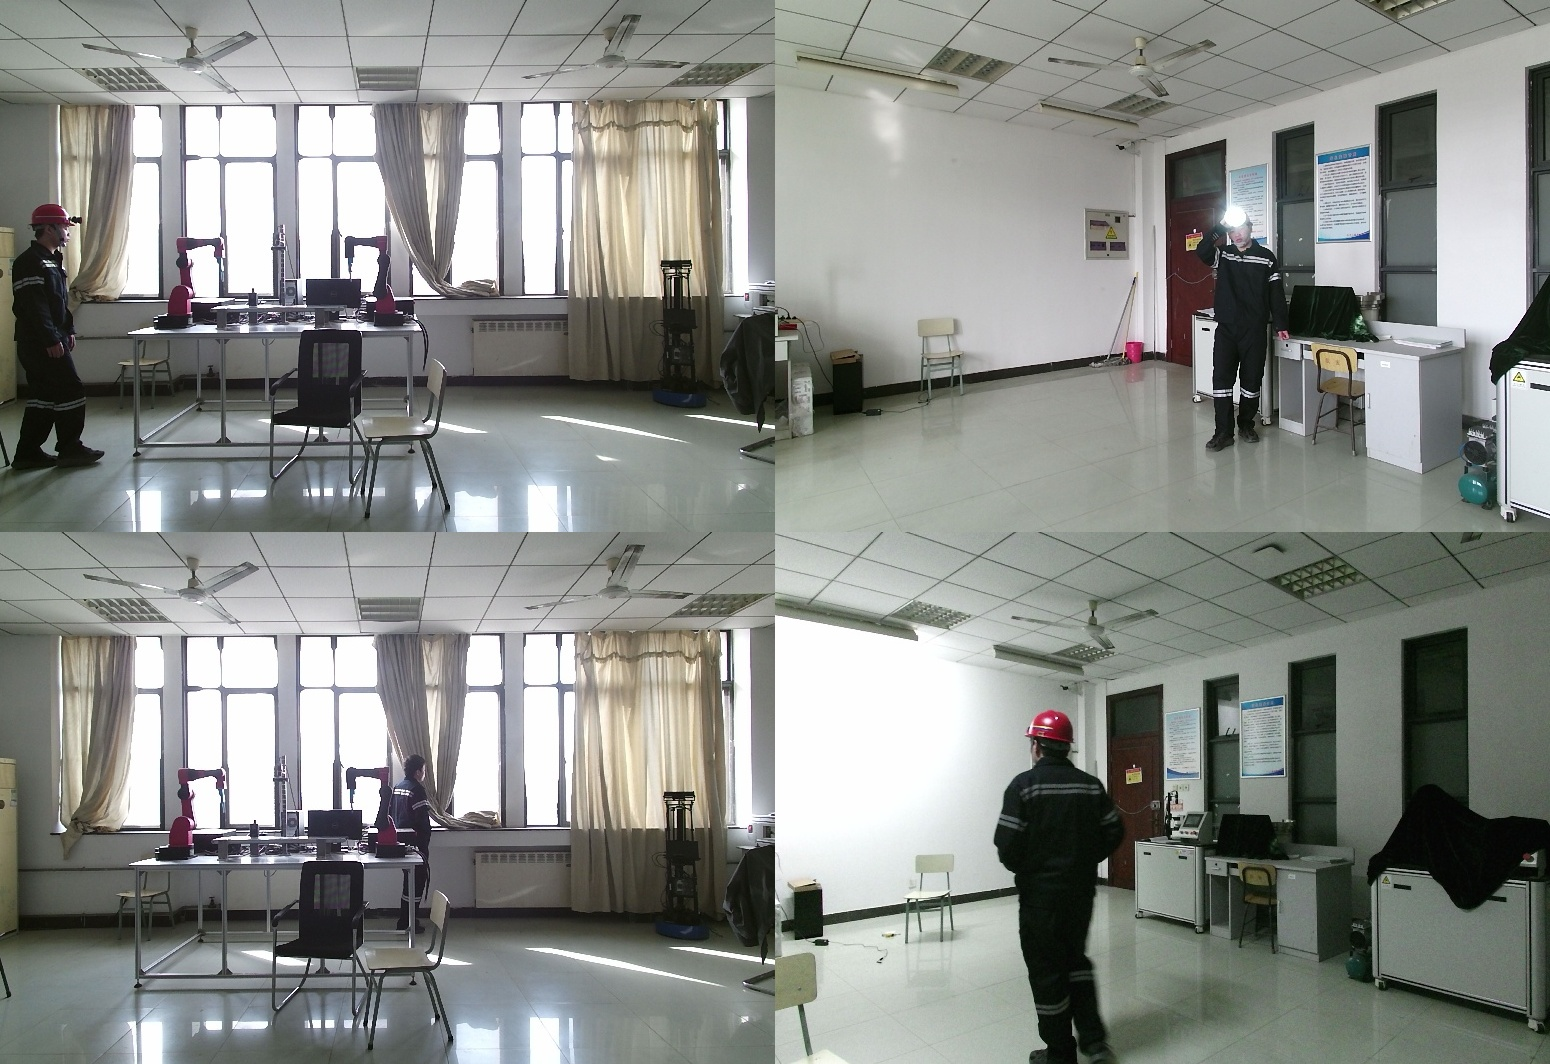person: (995, 709, 1140, 1064), (7, 204, 114, 468), (1201, 207, 1296, 455), (394, 754, 440, 945)
